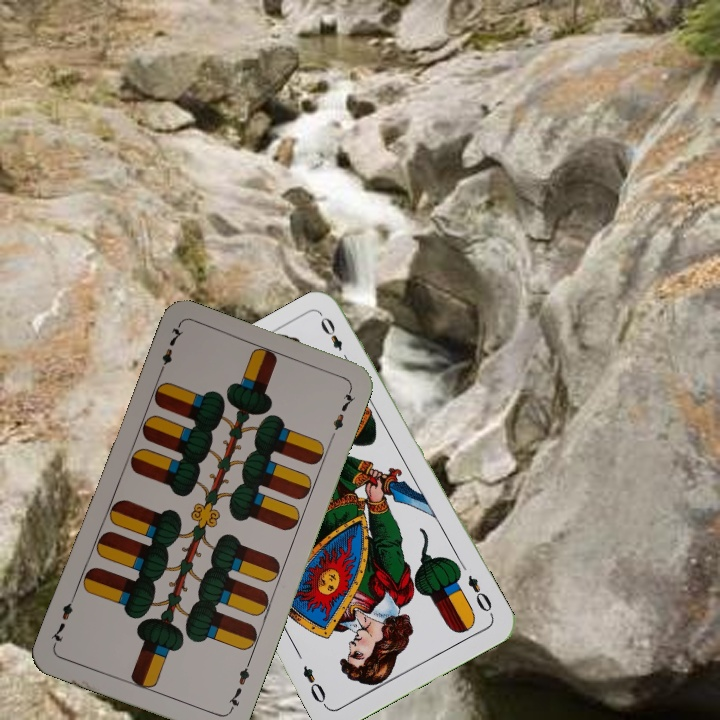E7: (154, 322, 186, 379), (224, 658, 253, 715)
EO: (463, 571, 496, 619)
